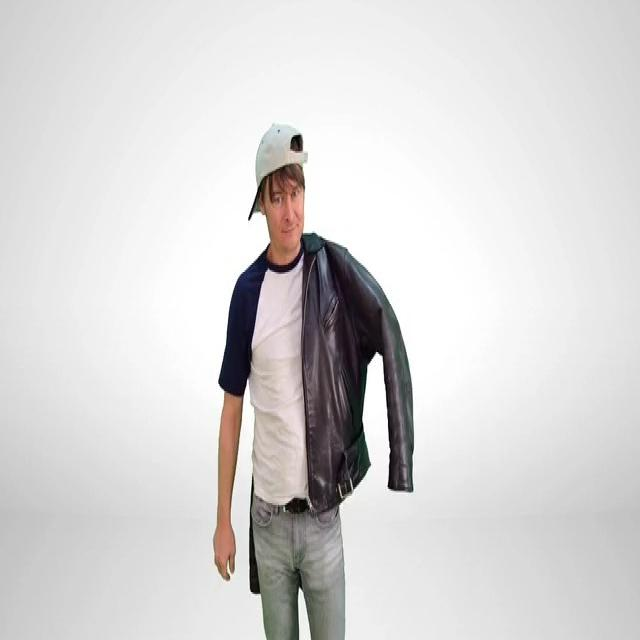Jacket_Wearer: (209, 240, 414, 553)
Person: (204, 105, 416, 640)
